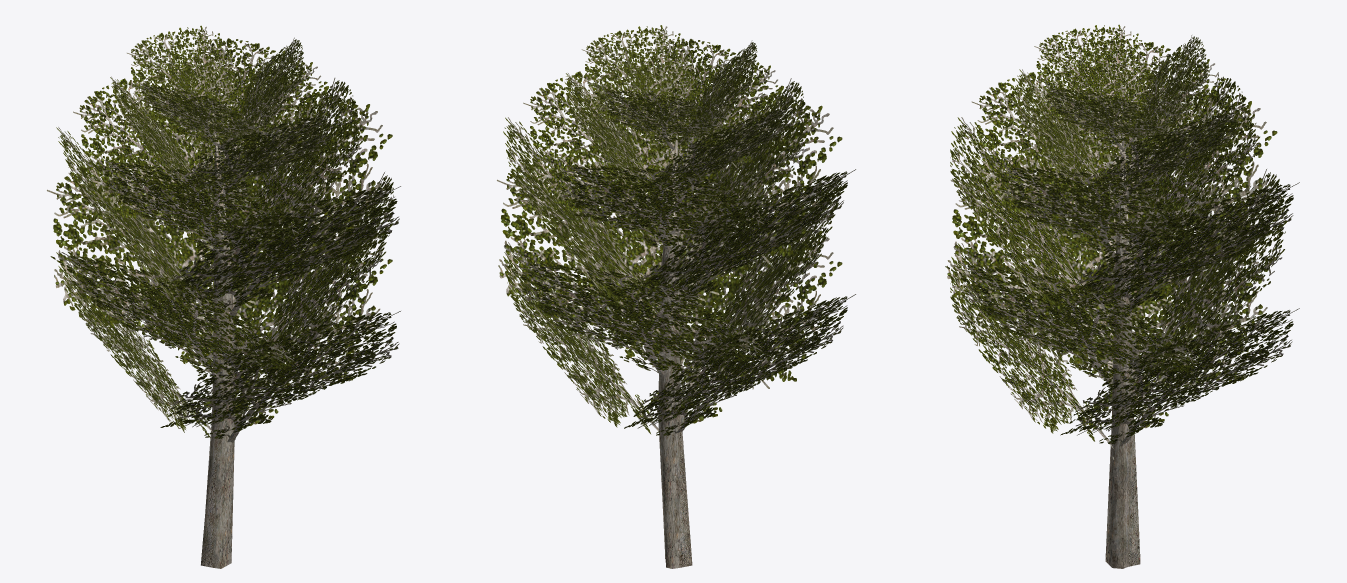
Rendered from Sharp_Poplar05.gltf.
3 views of the same model, side by side, from view 1: azimuth 30°, elevation 25°; view 2: azimuth 150°, elevation 25°; view 3: azimuth 270°, elevation 25° (orthographic).
Parts seen in each view (by area): view 1: Bfol, Cfol, Dfol, Afo, Bfo, Cfo, Afol, Dfo, Efol, Efo, Ffo, Ffol (+2 smaller); view 2: Bfol, Afol, Dfol, Cfol, Efol, Cfo, Ffol, Bfo, Afo, Dfo, Trunk, Efo (+2 smaller); view 3: Bfo, Cfo, Dfo, Afo, Ffo, Efo, Cfol, Afol, Bfol, Trunk, Efol, Dfol (+2 smaller).
Boxes of the visible parts, x1,y1,x2,y2 form: Bfol: (47, 151, 393, 385); Cfol: (57, 67, 397, 327); Dfol: (73, 66, 362, 260); Afo: (56, 217, 400, 452); Bfo: (47, 147, 393, 379); Cfo: (56, 68, 400, 327); Afol: (57, 193, 398, 452); Dfo: (73, 64, 362, 265); Efol: (110, 38, 331, 199); Efo: (110, 38, 332, 196); Ffo: (127, 25, 304, 152); Ffol: (131, 26, 304, 150); Bfol: (497, 145, 841, 375); Afol: (503, 194, 855, 435); Dfol: (523, 63, 805, 249); Cfol: (503, 65, 855, 310); Efol: (565, 38, 792, 198); Cfo: (504, 65, 855, 306); Ffol: (582, 25, 757, 153); Bfo: (497, 146, 841, 375); Afo: (503, 194, 855, 434); Dfo: (523, 68, 807, 250); Trunk: (658, 129, 692, 568); Efo: (565, 38, 790, 197); Bfo: (945, 148, 1287, 388); Cfo: (950, 70, 1299, 330); Dfo: (971, 64, 1259, 268); Afo: (950, 206, 1299, 459); Ffo: (1034, 24, 1209, 154); Efo: (1014, 38, 1240, 201); Cfol: (950, 79, 1291, 320); Afol: (950, 243, 1297, 443); Bfol: (947, 155, 1283, 383); Trunk: (1105, 125, 1140, 567); Efol: (1014, 40, 1238, 197); Dfol: (977, 75, 1255, 250).
Size of the model in its own units: 7.28 by 9.58 by 7.14.
Materials: 2 (2 with a texture image).
